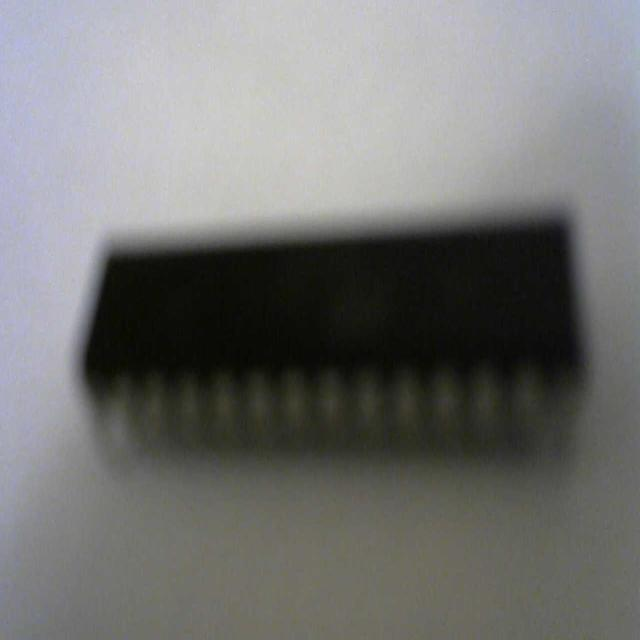atmega: (76, 205, 592, 470)
